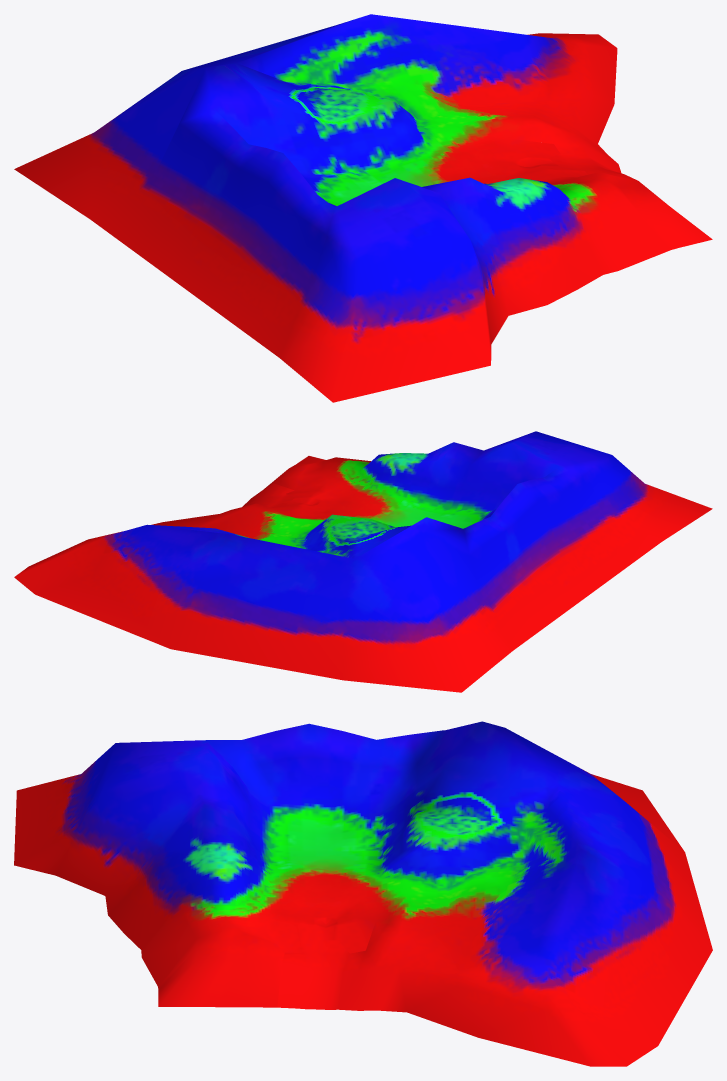
The model's file is RocksMeshShape.dae.
The picture shows the model from 3 angles, top to bottom: view 1: azimuth 30°, elevation 25°; view 2: azimuth 150°, elevation 25°; view 3: azimuth 270°, elevation 25°; orthographic projection. The views are drawn at different scales.
Visible parts, largest first — view 1: RocksMesh; view 2: RocksMesh; view 3: RocksMesh.
Boxes of the visible parts, left/top/right/bottom form: RocksMesh: left=14, top=14, right=712, bottom=402; RocksMesh: left=14, top=431, right=712, bottom=692; RocksMesh: left=14, top=721, right=712, bottom=1066.
Size of the model in its own units: 1539 by 345 by 1647.
